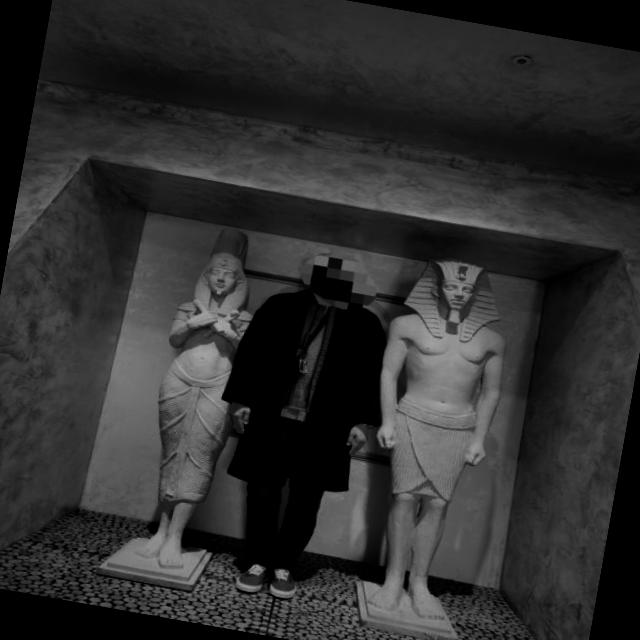coat: (209, 274, 400, 506), (232, 408, 334, 570)
